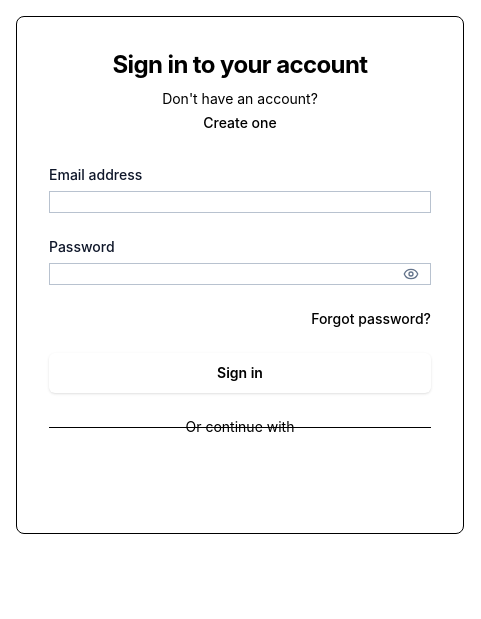
Scenario: AccountLoginPage › displays generic error on network failure
Type "test@example.com" into the field labelled "Email address" at {"x": 240, "y": 202}, box [49,191,431,213]
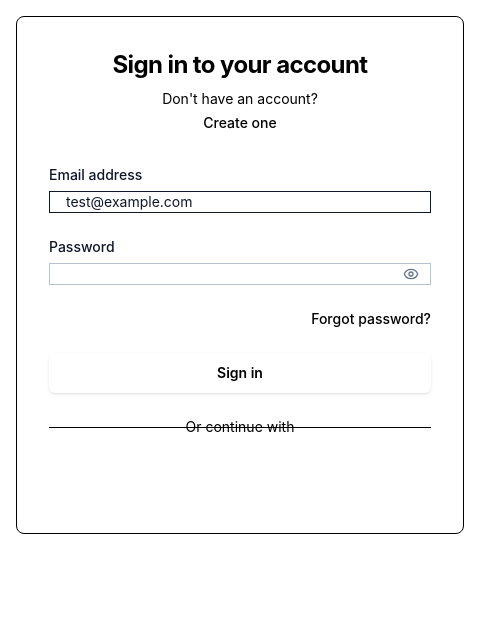
Type "somepassword" into the password field labelled "Password" at {"x": 240, "y": 274}, box [49,263,431,285]
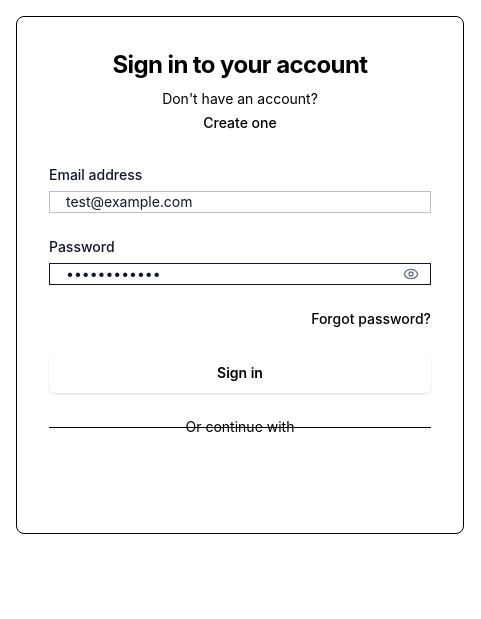
Click the button "Sign in" at {"x": 240, "y": 373}, box [49,353,431,393]
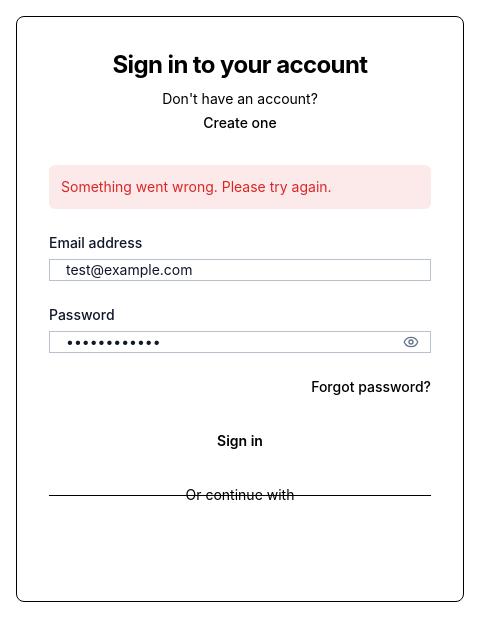
Expected: the message reads "Something went wrong. Please try again.", [61,178,332,195]
